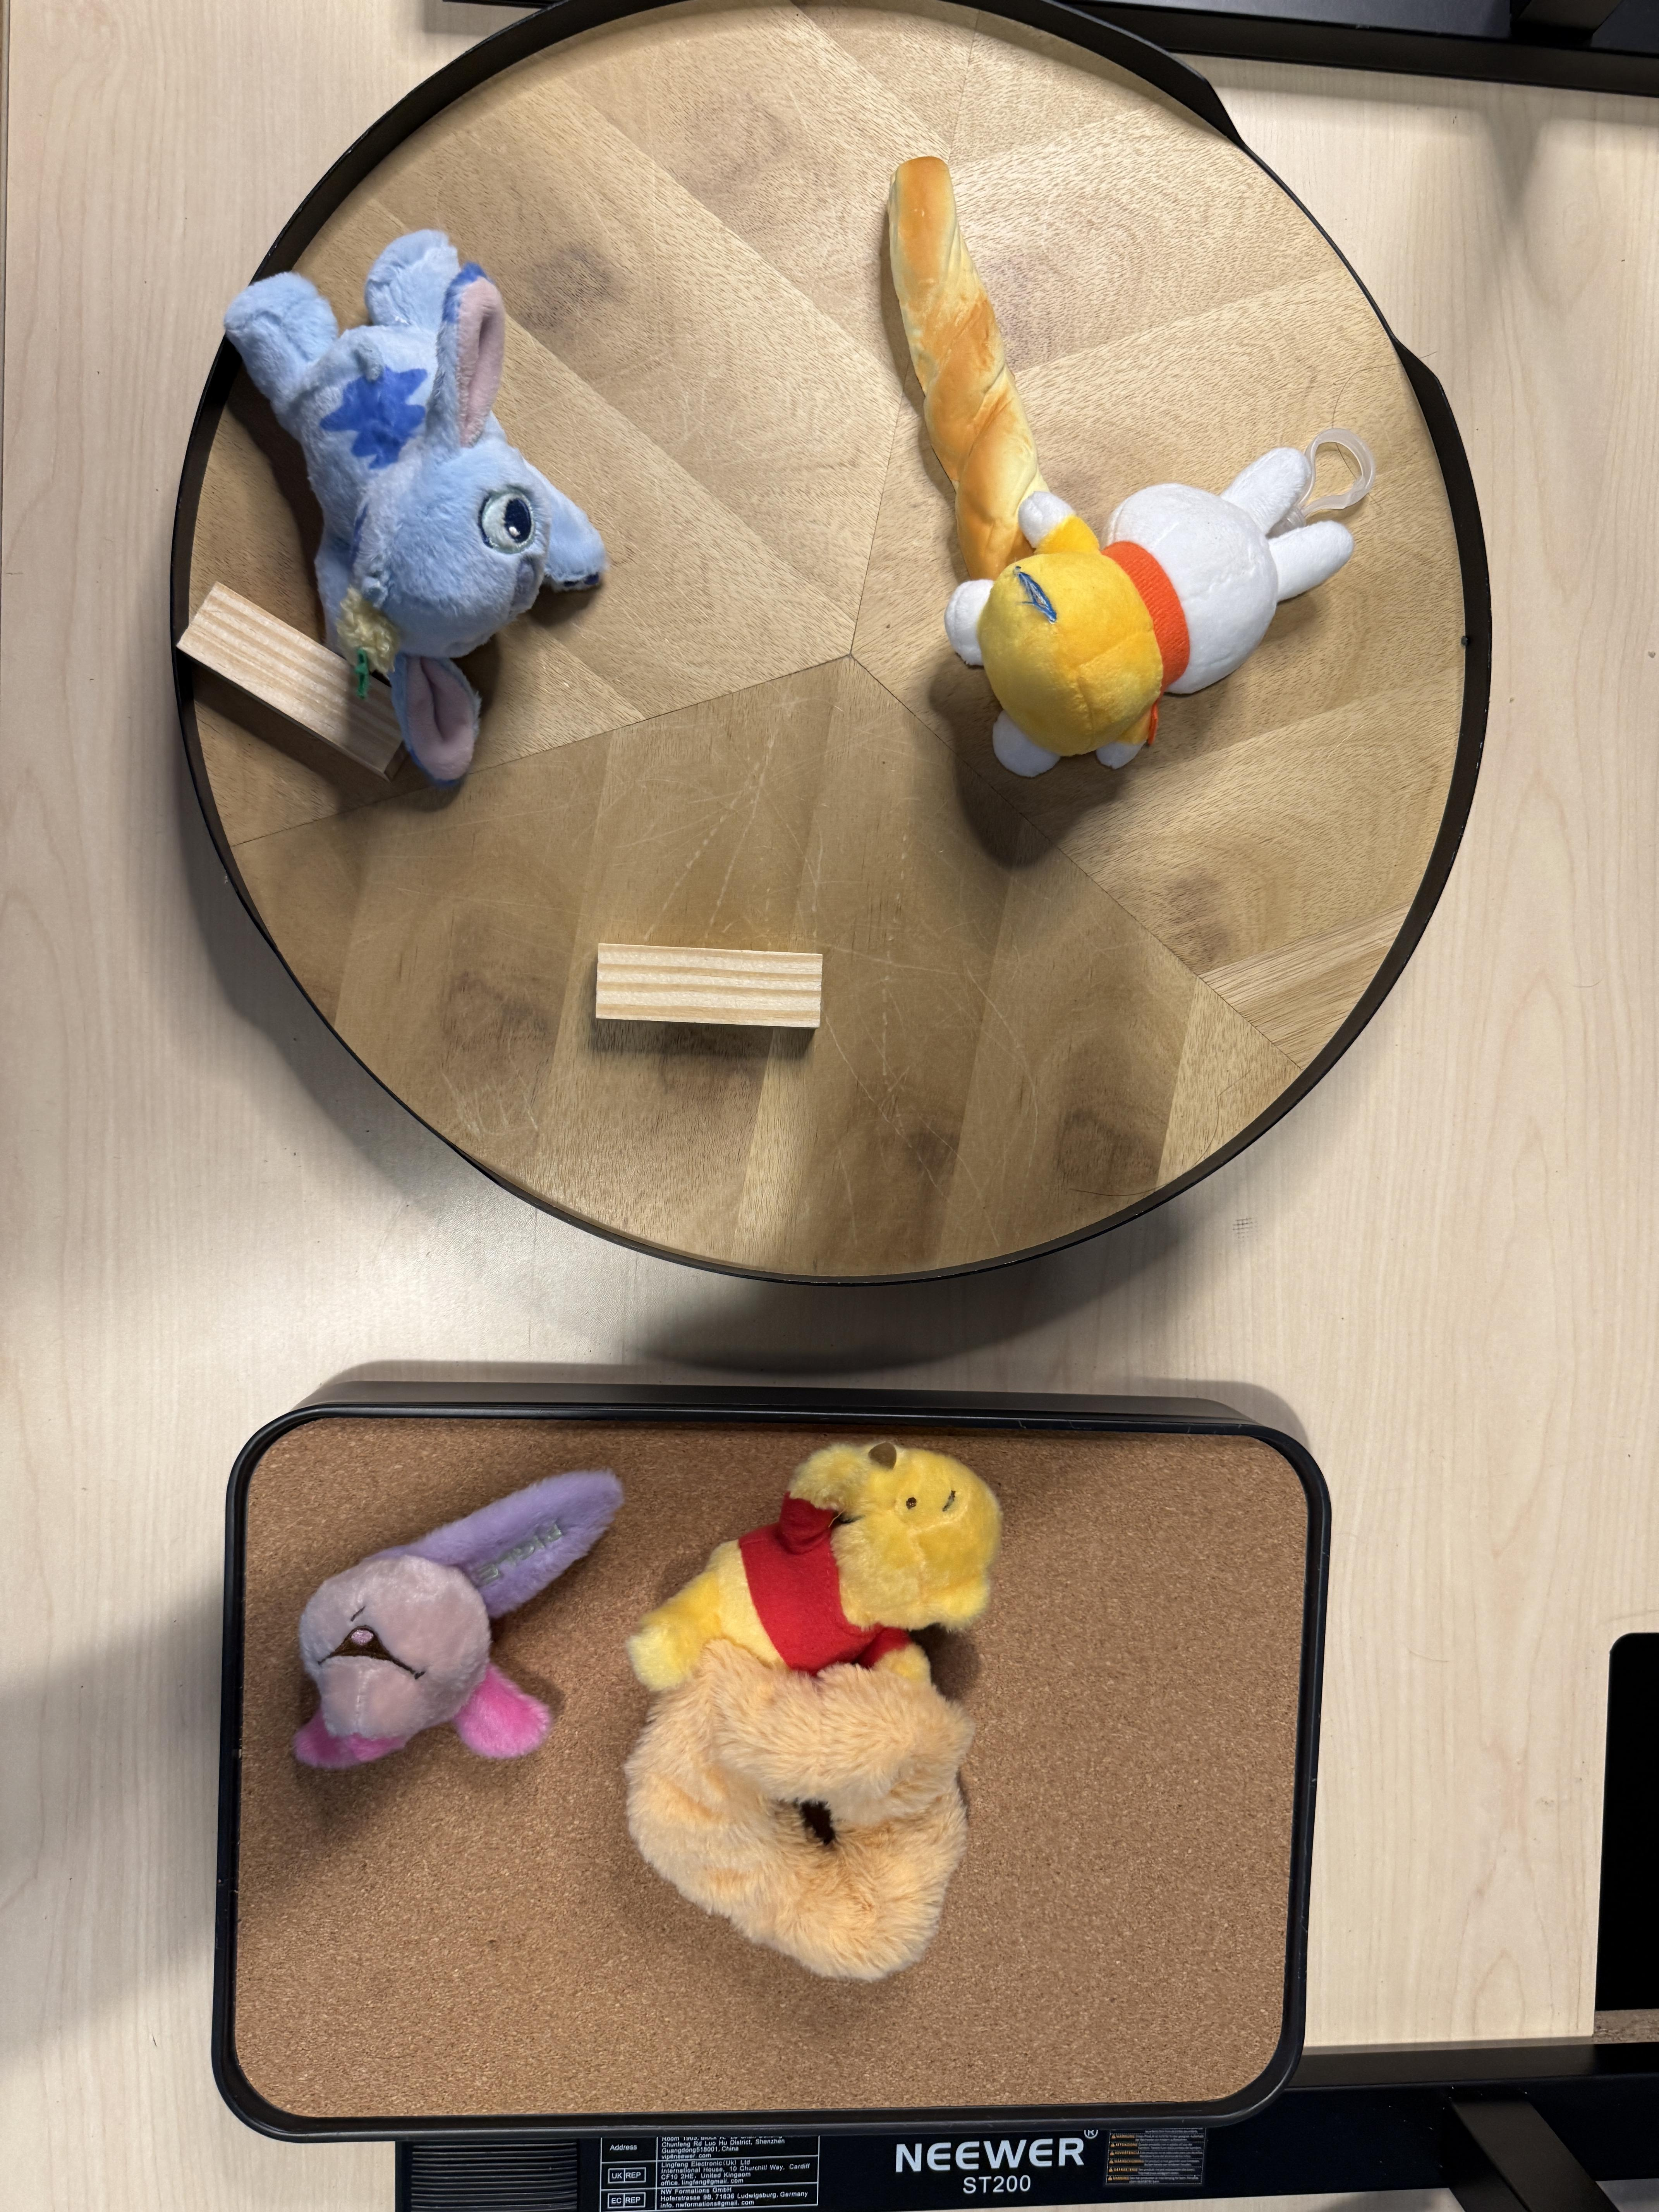block: (174, 585, 423, 775), (592, 946, 829, 1038)
bread: (887, 152, 1056, 585)
doll: (620, 1440, 1011, 1986), (232, 232, 606, 772), (960, 430, 1356, 775), (291, 1463, 620, 1757)
